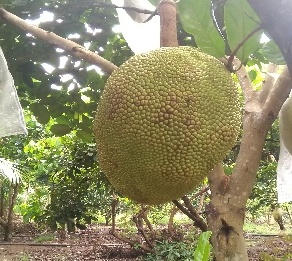Mit: (93, 46, 243, 206)
